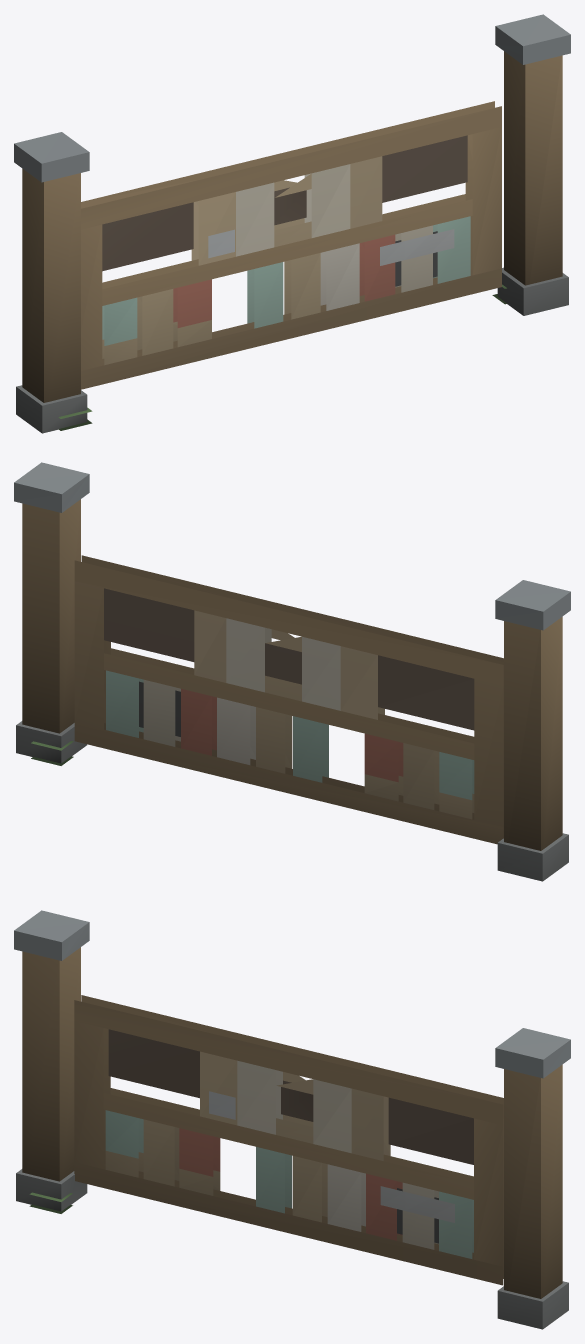
File: fgate.lod.glb
The picture shows the model from 3 angles, top to bottom: view 1: azimuth 30°, elevation 25°; view 2: azimuth 150°, elevation 25°; view 3: azimuth 330°, elevation 25°; orthographic projection.
Parts seen in each view (by area): view 1: fgate; view 2: fgate; view 3: fgate.
Part boxes in pixels (bbox=[...]): fgate: bbox=[14, 14, 570, 433]; fgate: bbox=[14, 462, 570, 881]; fgate: bbox=[14, 910, 570, 1329].
Size of the model in its own units: 3.98 by 1.95 by 0.41.
